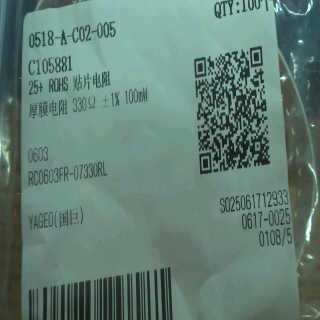330R: (71, 94, 100, 116)
